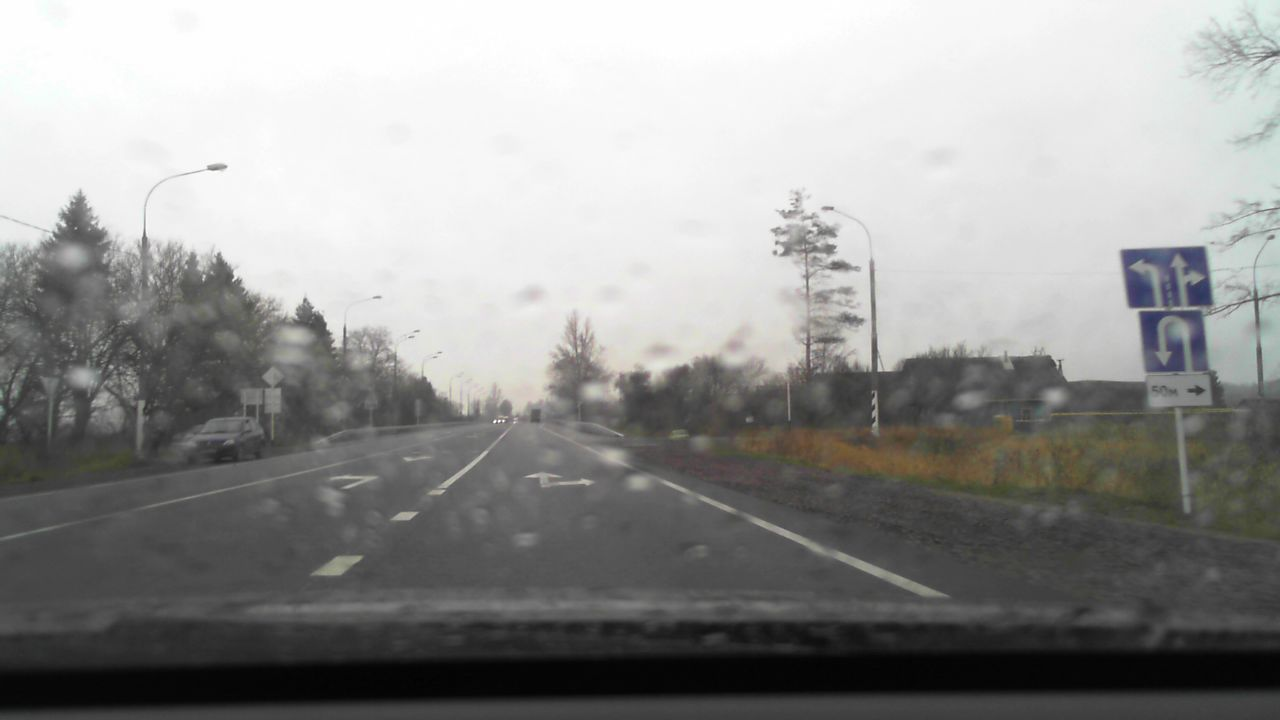U-turn: (1140, 311, 1207, 373)
